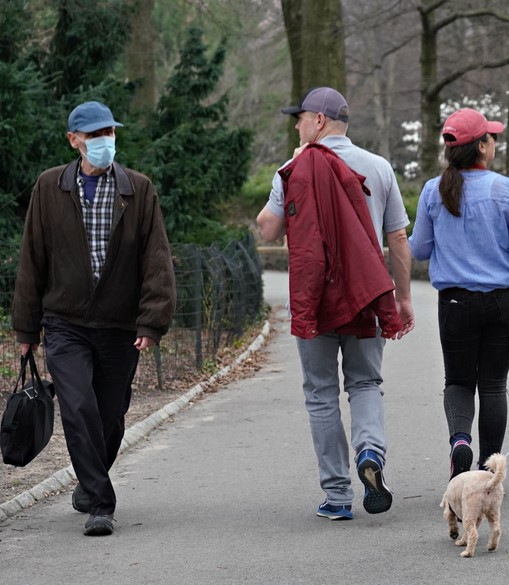face_with_mask: (66, 100, 124, 172)
